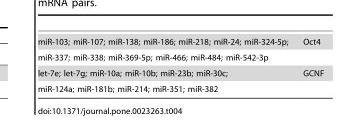table: (37, 37, 323, 93)
table column: (37, 37, 294, 93), (294, 37, 323, 93)
table projected row header: (37, 49, 323, 65)
table row: (37, 49, 323, 65), (37, 65, 323, 80), (37, 80, 323, 93), (37, 37, 323, 49)
